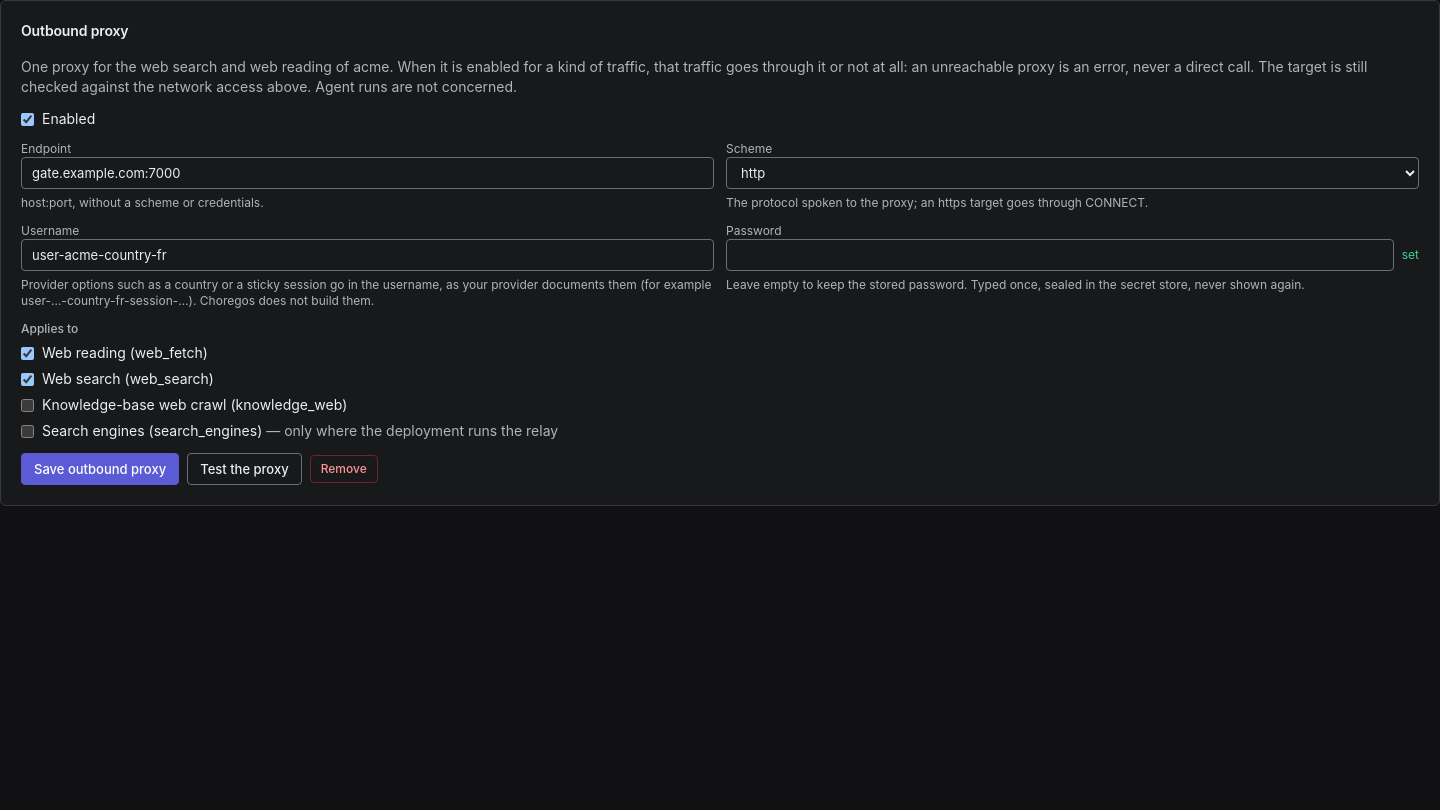
Test case: the organisation's outbound proxy (ADR 0087) › Test shows a failing proxy's error (200 with ok: false) and an HTTP error
The width and height of the screenshot is (1440, 810).
Check: the field showing "gate.example.com:7000" is shown, box [21,157,714,189]
What coordinates should you click on to do the following:
click the button "Test the proxy"
I would click on:
 (244, 469)
Its box is [187,453,302,485].
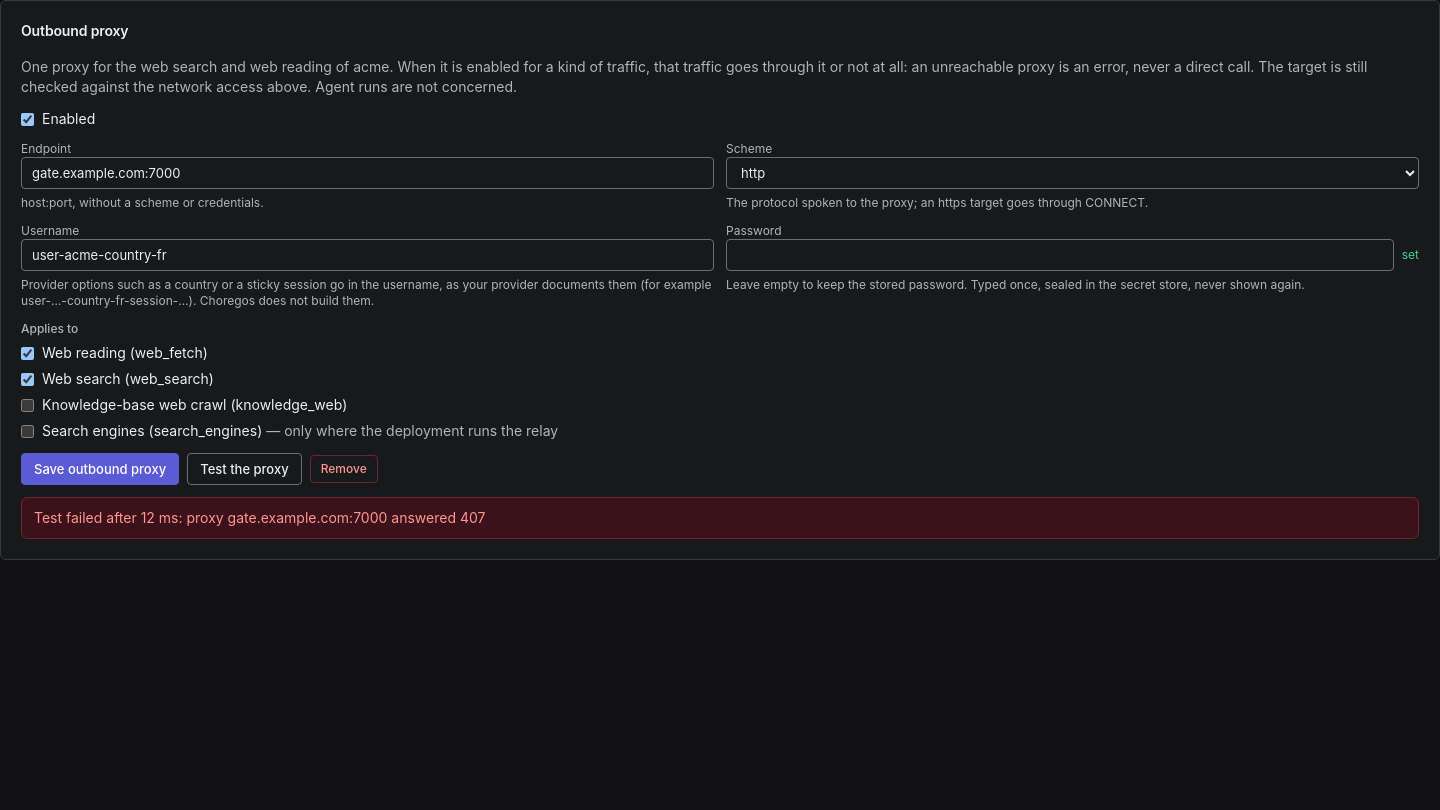
Check: the text "answered 407" is shown, box [186,509,486,526]
What coordinates should you click on to do the following:
click the button "Test the proxy"
I would click on:
 (244, 469)
Its box is [187,453,302,485].
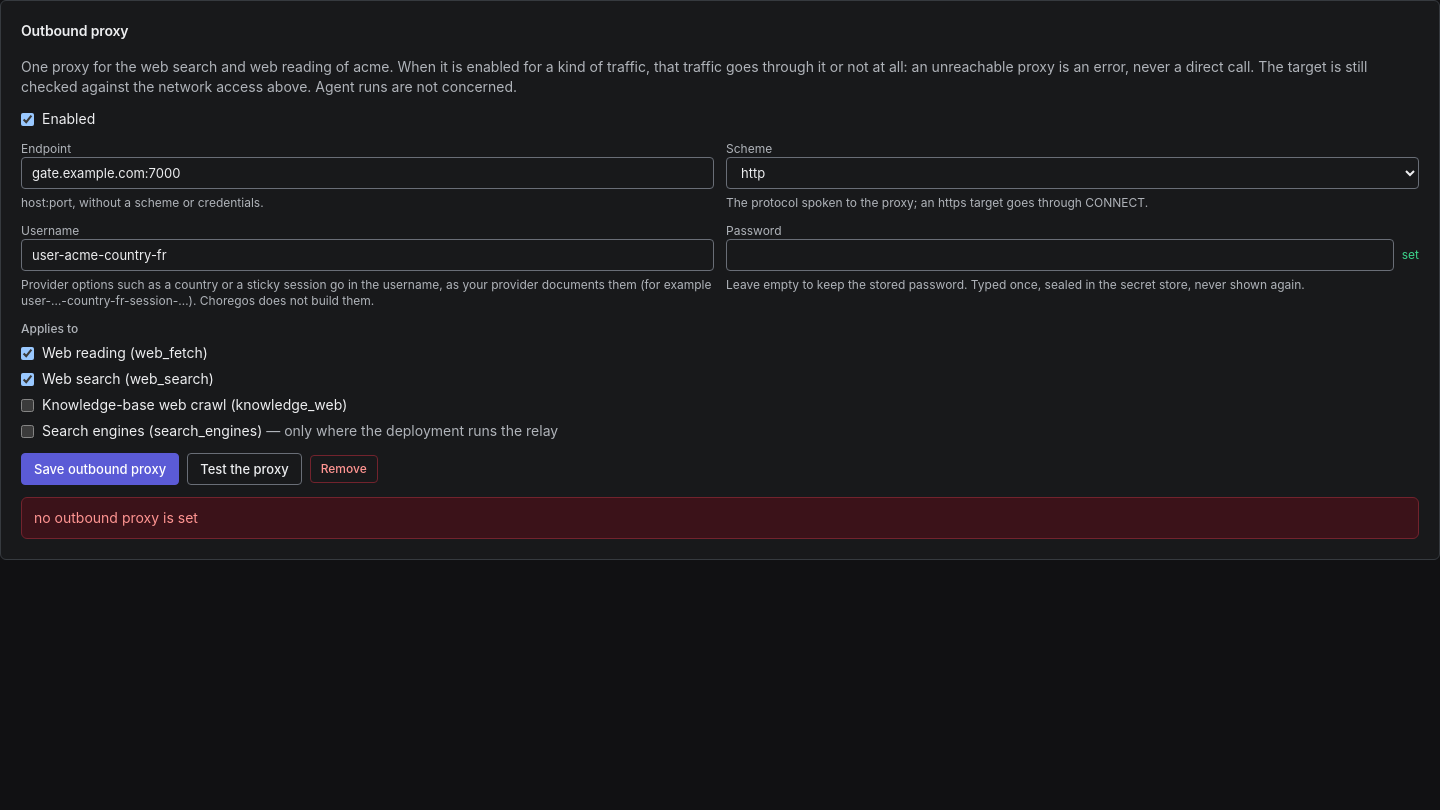
Check: the text "no outbound proxy is set" is shown, box [34,509,198,526]
